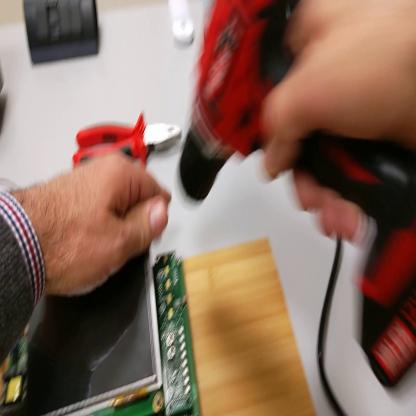electric screwdriver: (172, 2, 416, 302)
hand: (259, 3, 416, 230), (39, 150, 172, 299)
low voltage board: (1, 247, 202, 416)
pliers: (75, 113, 181, 170)
working area: (180, 235, 319, 416)
